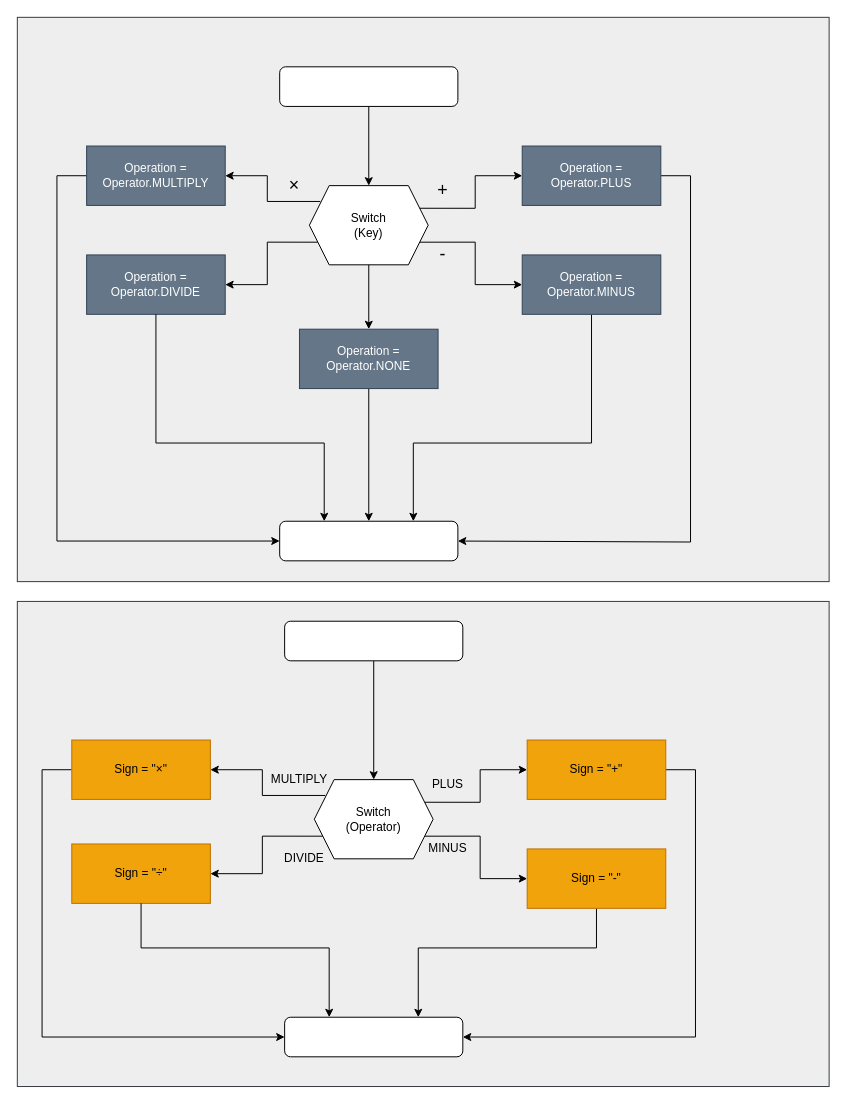
Some shapes in this 846 by 1104 pixel diagram are drawn without their labels. The shapes that lost their labels are listed below. From the top down, each one's centre as x and y in pixels, then its label:
point 368,86: GetOperation(Key) : Operator
point 368,540: Return Operation
point 373,640: GetOperationSign(Operator) : Char
point 373,1036: Return Sign
